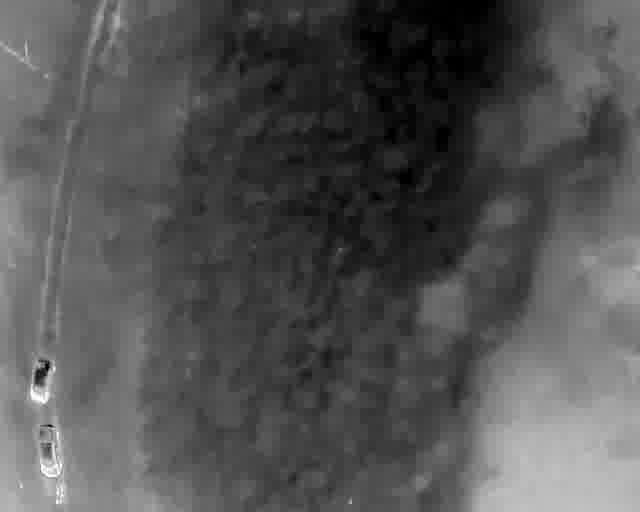car: (33, 423, 64, 479), (30, 356, 56, 405)
person: (54, 494, 65, 505), (54, 485, 66, 495)
